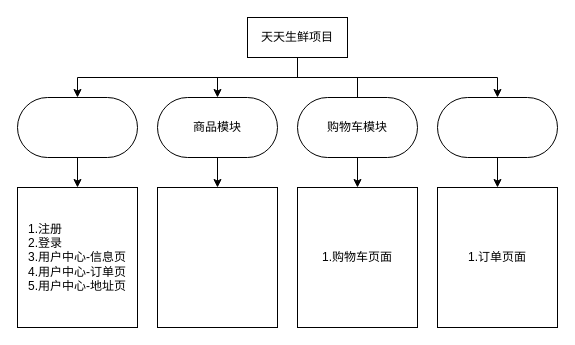
The diagram is 575 pixels wide and 345 high, and some of its shapes have lost their labels. Each missing label, with the centre of its shape:
"1.首页 2.商品详情页 3.商品列表页 4.商品搜索结果页" goes at point 217,257.
"用户模块" goes at point 77,127.
"订单模块" goes at point 497,127.
